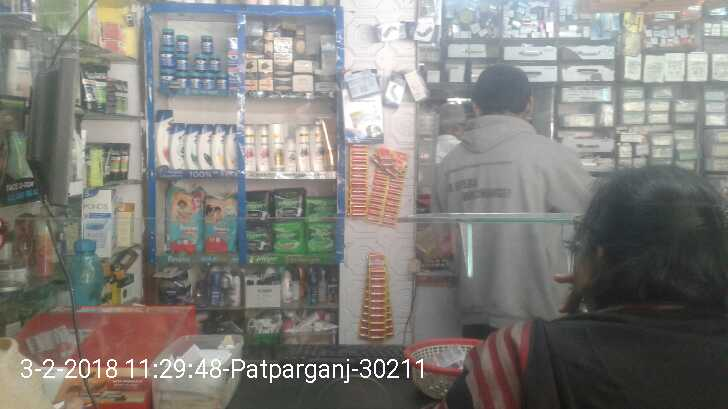beauty: (156, 105, 171, 167), (295, 125, 310, 171), (294, 61, 314, 89), (271, 124, 283, 170), (258, 125, 269, 171), (312, 126, 323, 172), (200, 124, 211, 169), (214, 125, 225, 168), (173, 124, 184, 166), (187, 124, 197, 170), (227, 124, 237, 170), (244, 58, 258, 88), (246, 126, 255, 171), (274, 51, 292, 73), (259, 59, 272, 89), (286, 138, 294, 170), (274, 75, 292, 88)
pharmacy: (165, 190, 203, 252), (205, 196, 236, 254), (244, 224, 274, 253), (273, 189, 302, 218), (276, 224, 305, 253), (306, 225, 336, 253), (244, 189, 269, 218), (306, 199, 336, 220), (160, 71, 176, 89), (175, 34, 188, 54), (160, 27, 173, 46), (200, 36, 213, 52), (225, 51, 238, 67), (225, 69, 238, 85), (161, 52, 174, 68), (209, 57, 221, 73), (195, 55, 207, 70), (177, 74, 188, 89), (203, 75, 215, 88), (190, 74, 201, 88), (178, 56, 189, 70), (216, 74, 226, 87)
